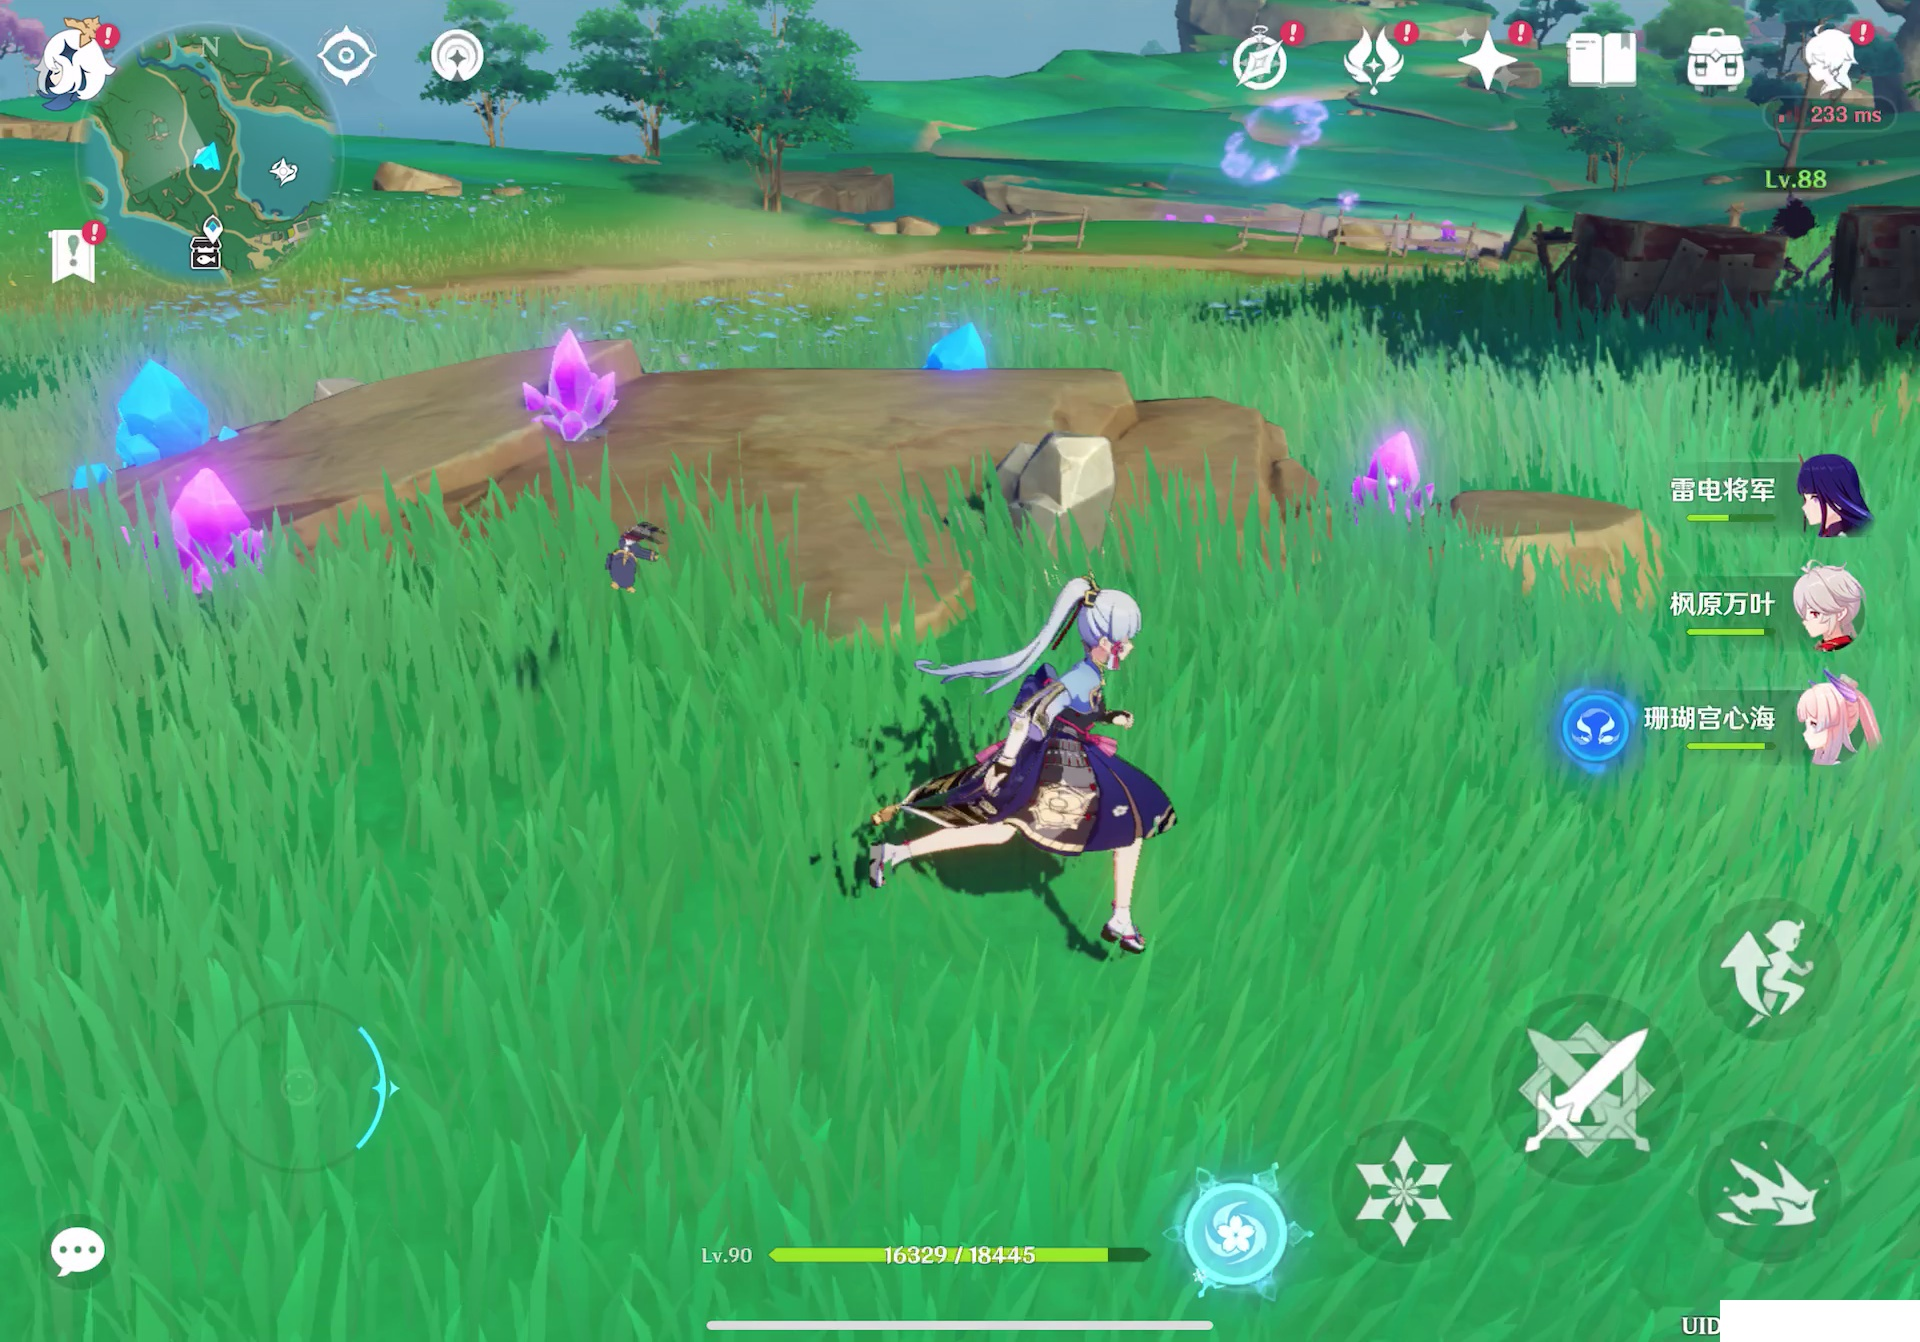白铁矿石: (980, 432, 1132, 541)
神里绫龟: (859, 553, 1196, 935)
紫矿石: (128, 467, 261, 579), (1339, 427, 1436, 524), (512, 335, 608, 430)
蓝矿石: (92, 346, 232, 459), (928, 318, 991, 376)
